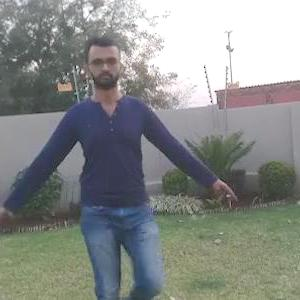land: (1, 64, 211, 298)
